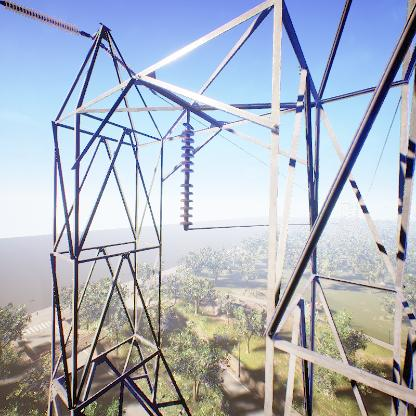insulator: (178, 129, 195, 228)
